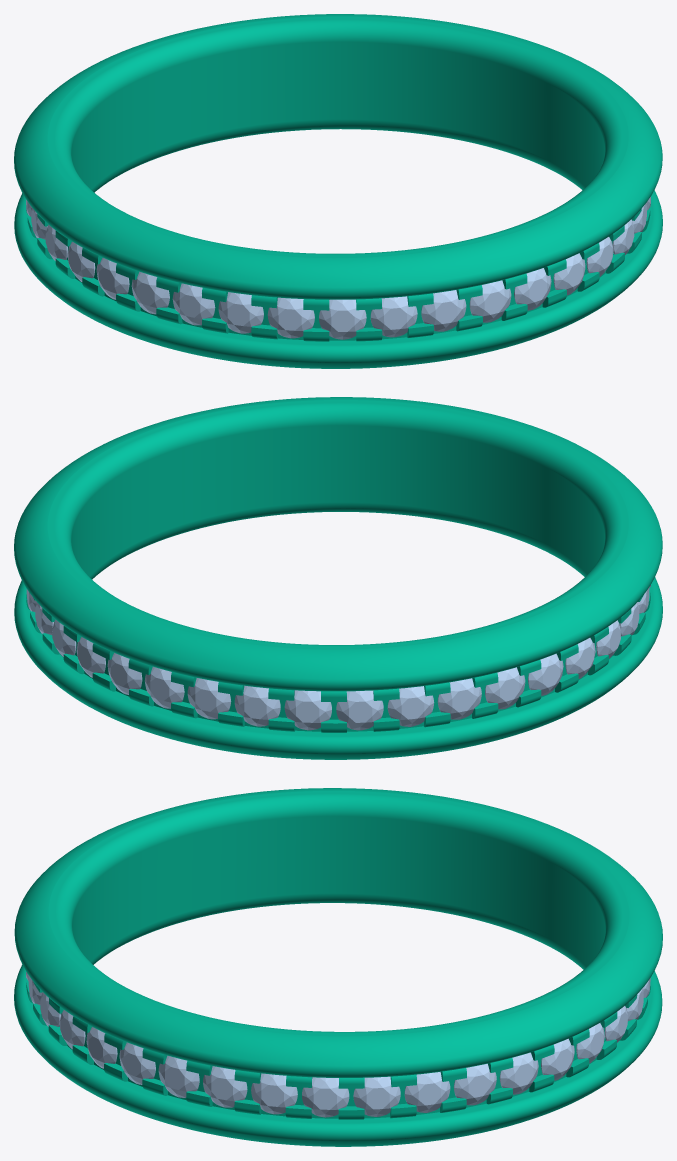
The picture shows the model from 3 angles, top to bottom: view 1: azimuth 30°, elevation 25°; view 2: azimuth 150°, elevation 25°; view 3: azimuth 270°, elevation 25°; orthographic projection.
Visible parts, largest first — view 1: 60200.AZHAR(base).3dm, Diamond_Round (×13); view 2: 60200.AZHAR(base).3dm, Diamond_Round (×14); view 3: 60200.AZHAR(base).3dm, Diamond_Round (×13).
Part boxes in pixels (<box>): 60200.AZHAR(base).3dm: <box>14,14,662,368</box>; Diamond_Round (×13): <box>67,237,613,339</box>; 60200.AZHAR(base).3dm: <box>14,397,662,759</box>; Diamond_Round (×14): <box>52,619,621,730</box>; 60200.AZHAR(base).3dm: <box>14,788,662,1146</box>; Diamond_Round (×13): <box>59,1010,604,1117</box>.
Size of what is drawn, in the model's own units: 2.8 by 0.5361 by 2.8.
